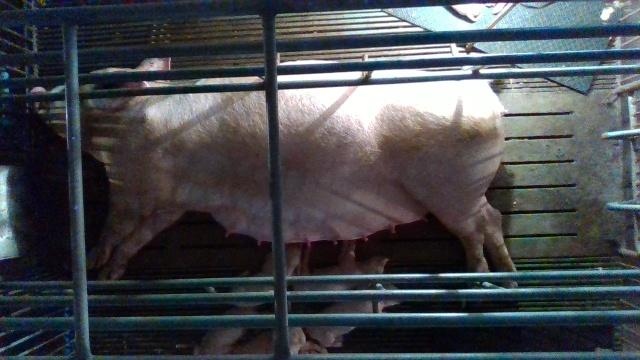piglet: (291, 235, 392, 304), (307, 286, 404, 342), (228, 244, 302, 314), (191, 301, 264, 355), (235, 322, 321, 359)
sow-sleep-lactate: (29, 55, 519, 286)
